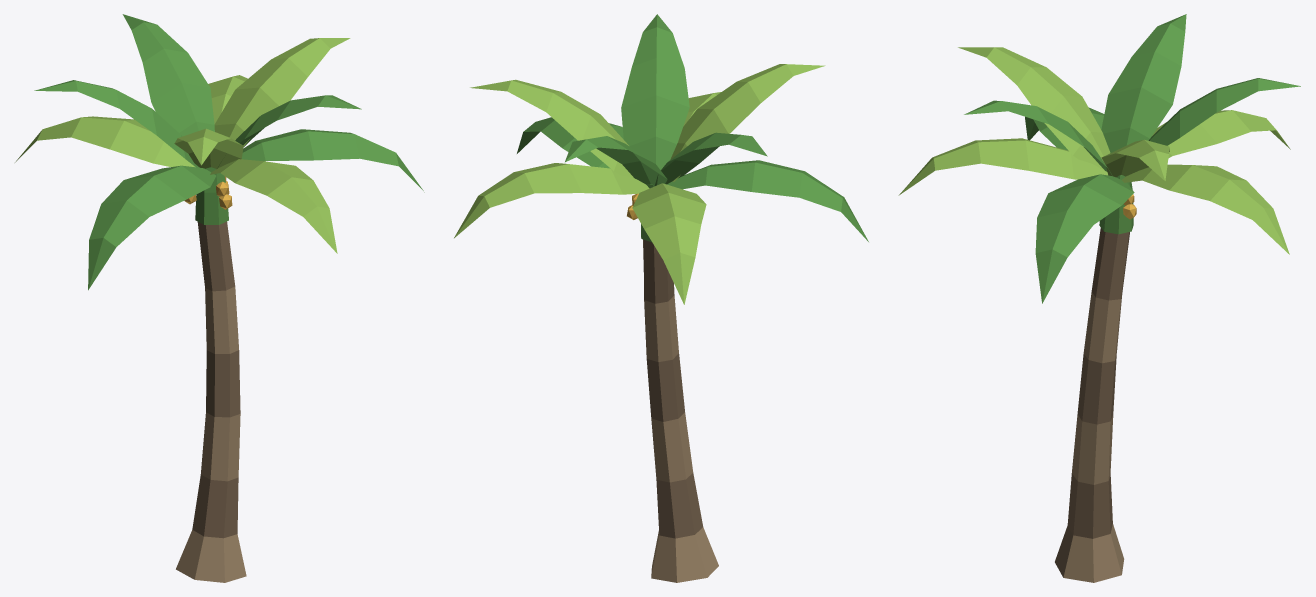
The model's file is palm_b.glb.
The picture shows the model from 3 angles, left to right: view 1: azimuth 30°, elevation 25°; view 2: azimuth 150°, elevation 25°; view 3: azimuth 270°, elevation 25°; orthographic projection.
Parts seen in each view (by area): view 1: Canopy, Trunk; view 2: Canopy, Trunk; view 3: Canopy, Trunk.
Boxes of the visible parts, bbox=[...] form: Canopy: bbox=[15, 14, 424, 290]; Trunk: bbox=[176, 167, 246, 582]; Canopy: bbox=[454, 14, 868, 304]; Trunk: bbox=[641, 184, 718, 582]; Canopy: bbox=[898, 14, 1300, 303]; Trunk: bbox=[1055, 175, 1133, 582].
Bounding box in the file's own units: 6.87 × 9.4 × 6.85.
